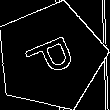P_NE: (20, 30, 82, 83)
